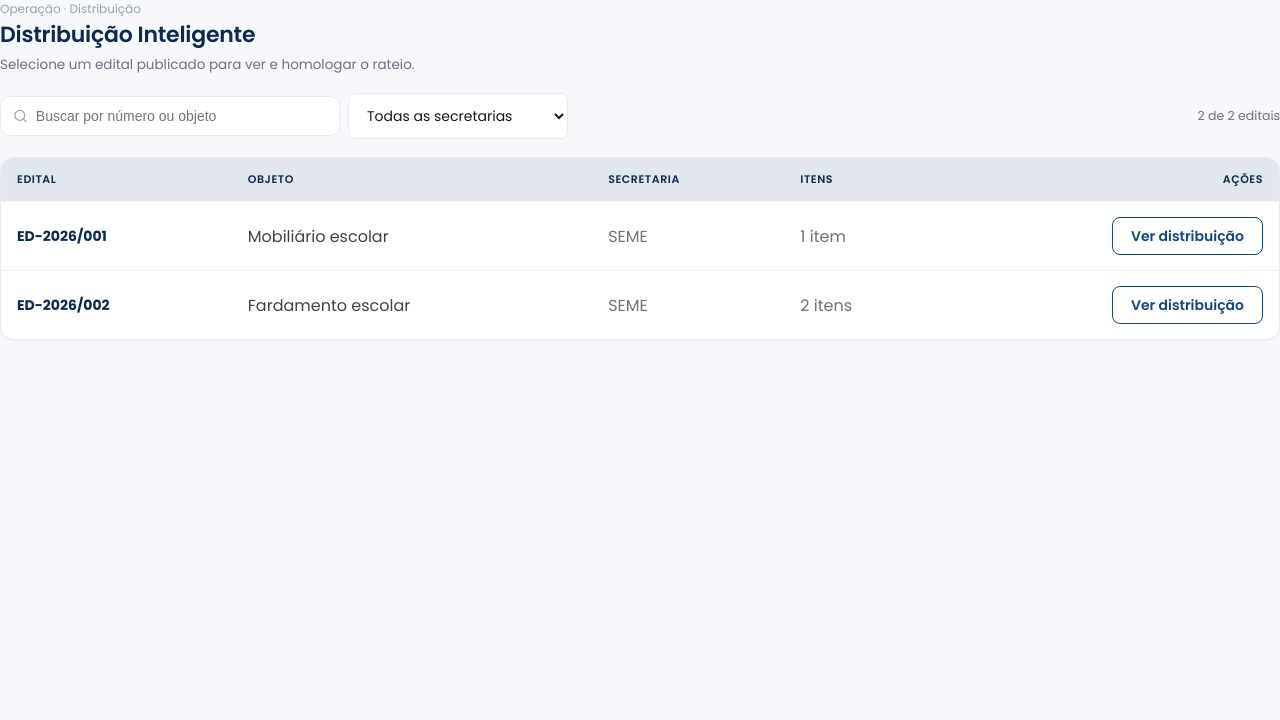
Test case: DistribuicaoInteligente — Painel Admin (UC008/RN005) › homologa pelo modal e reflete a matriz congelada
Click the button with test id "ver-distribuicao" in the row of "ED-2026/001": (1187, 236) [1112,217,1263,255]
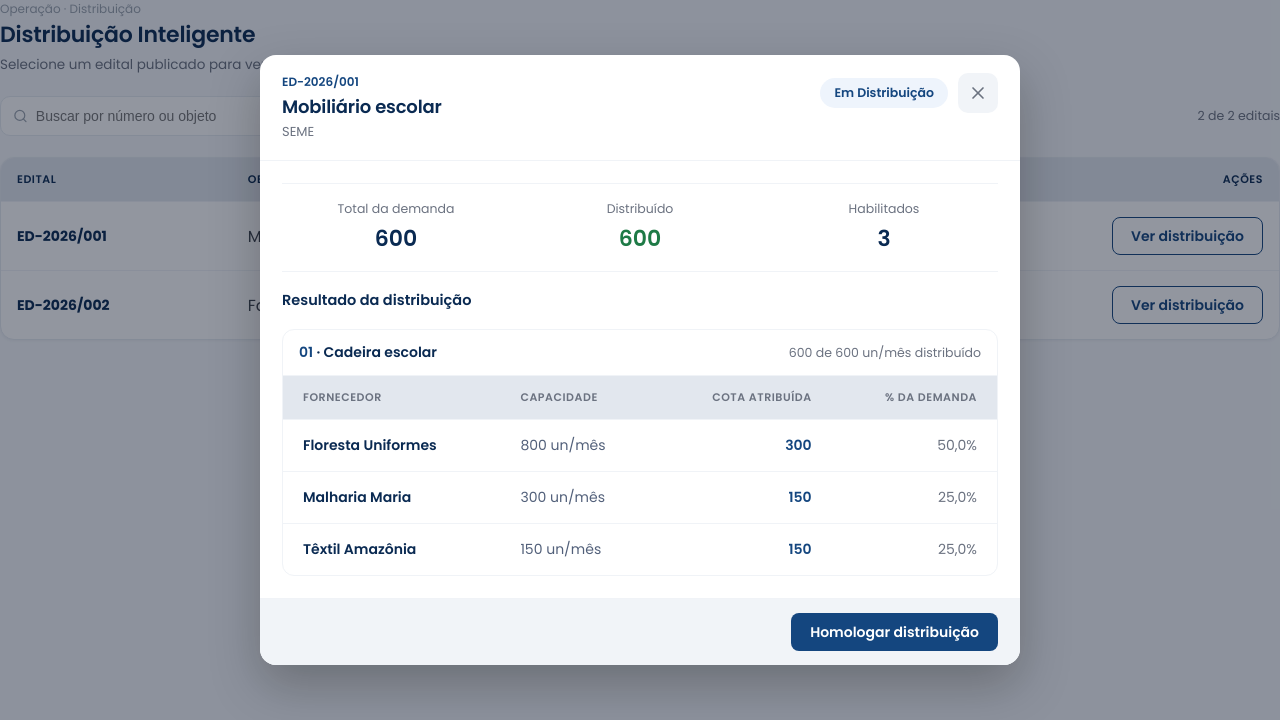
Click the button with test id "homologar": (895, 632) [791,613,998,651]
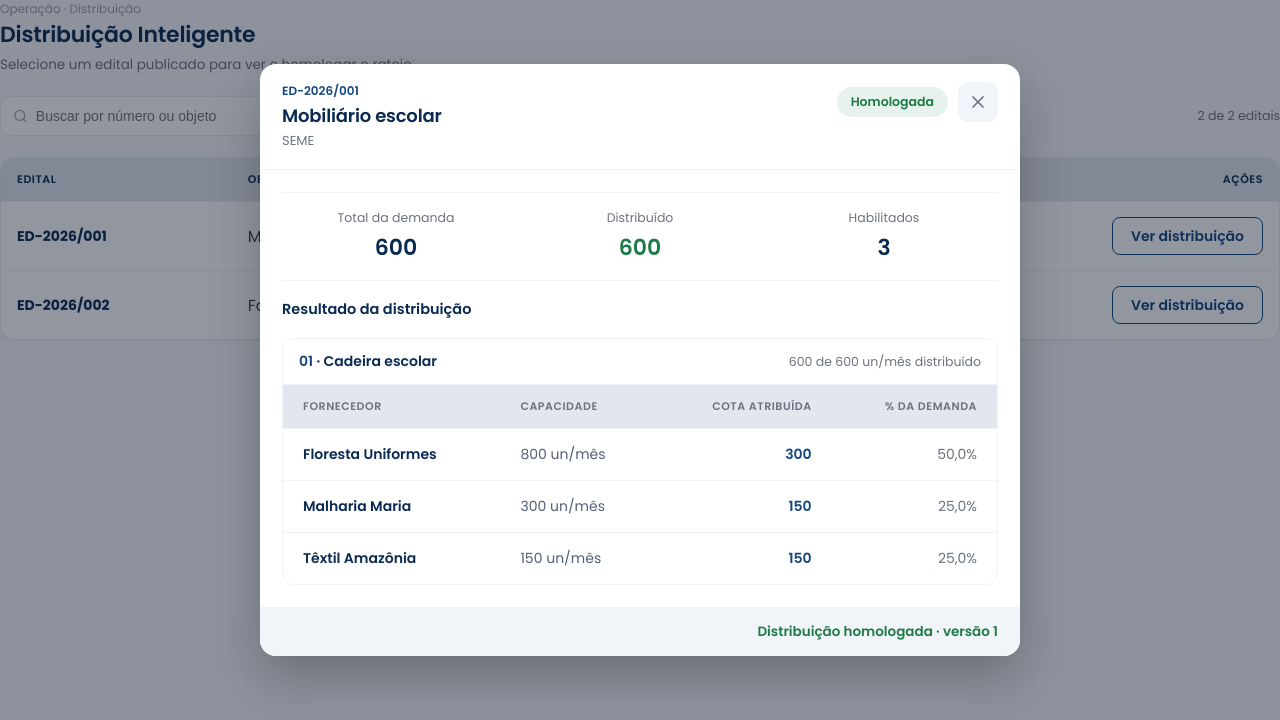
Expected: the text "Distribuição homologada · versão 1" is shown, [757,622,998,642]
